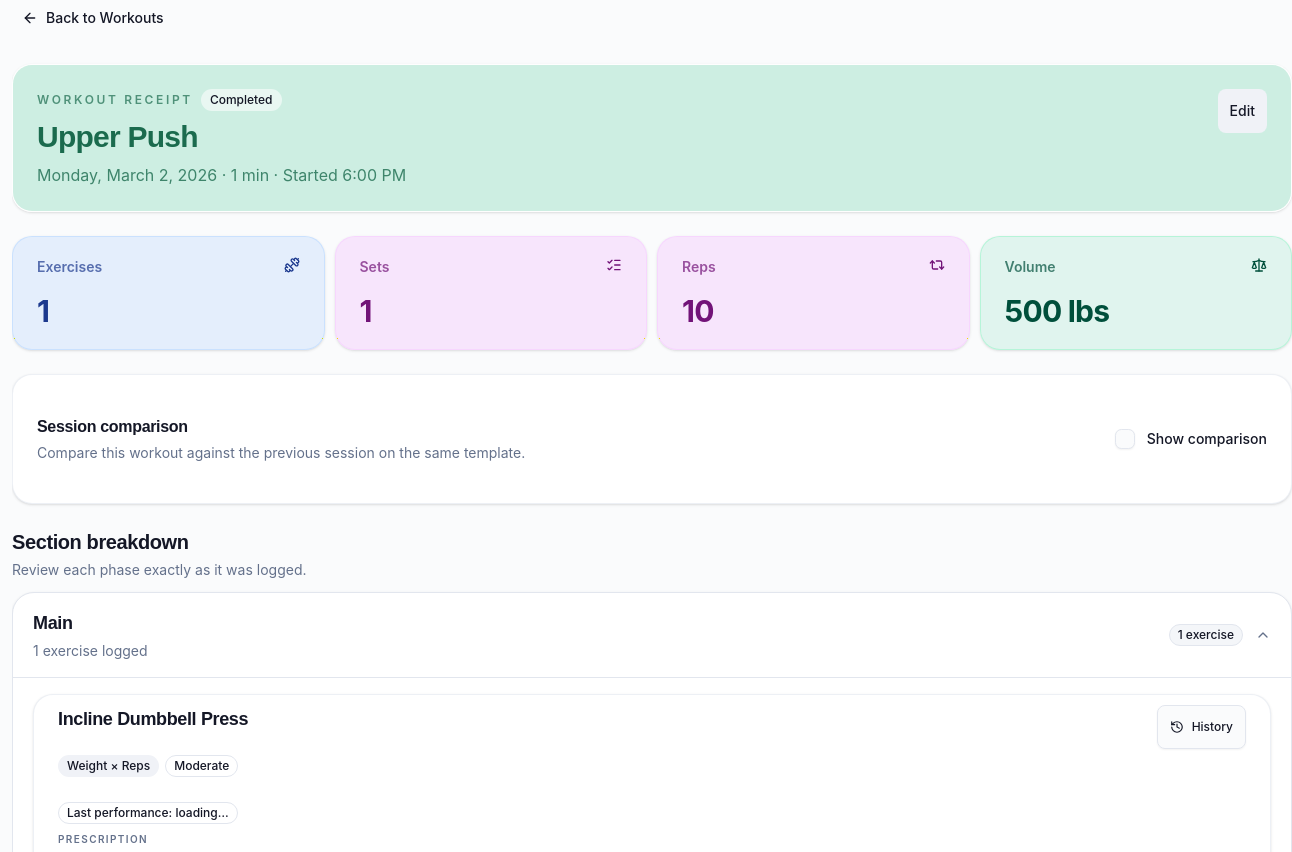
Scenario: SessionDetail › supports inline correction editing and only submits changed values
Expected: the text "Workout receipt" is shown, [37, 92, 193, 108]
Click the button "Edit".
click(1242, 111)  # box [1218, 89, 1267, 133]
(page scrolled)
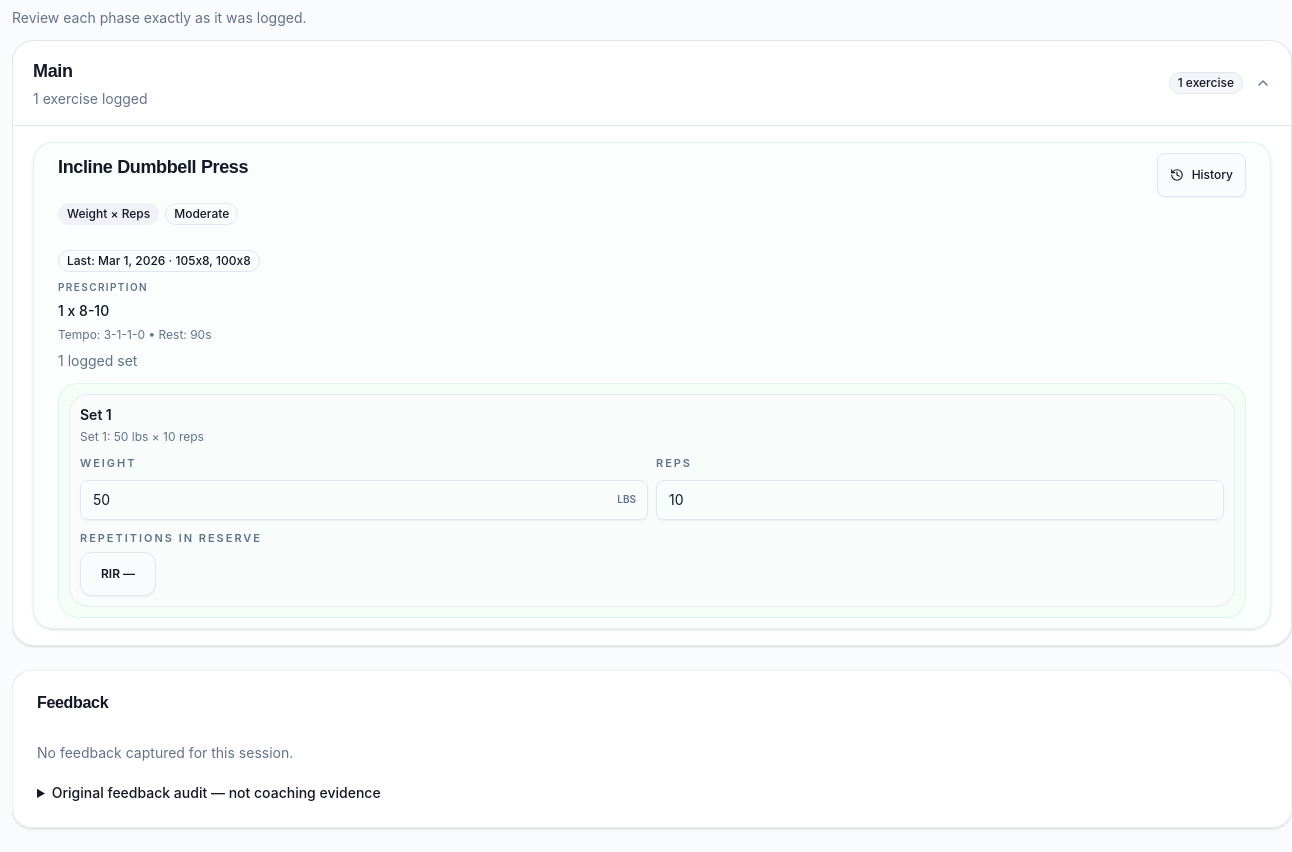
Replace the text in the number field named "Weight for set 1" with "55" at {"x": 364, "y": 500}, box [80, 480, 648, 520]
(page scrolled)
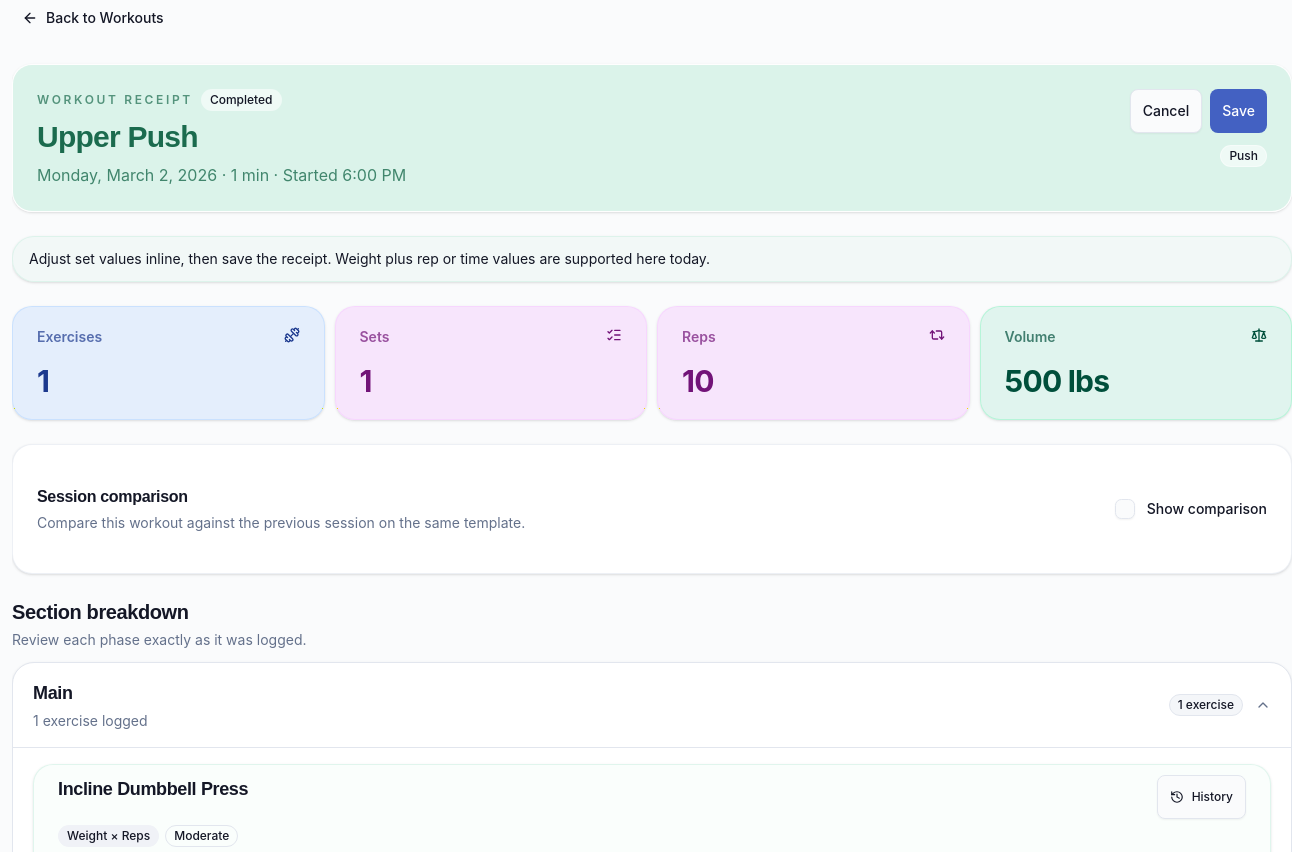
Click the button "Save".
click(1239, 111)  # box [1210, 89, 1267, 133]
(page scrolled)
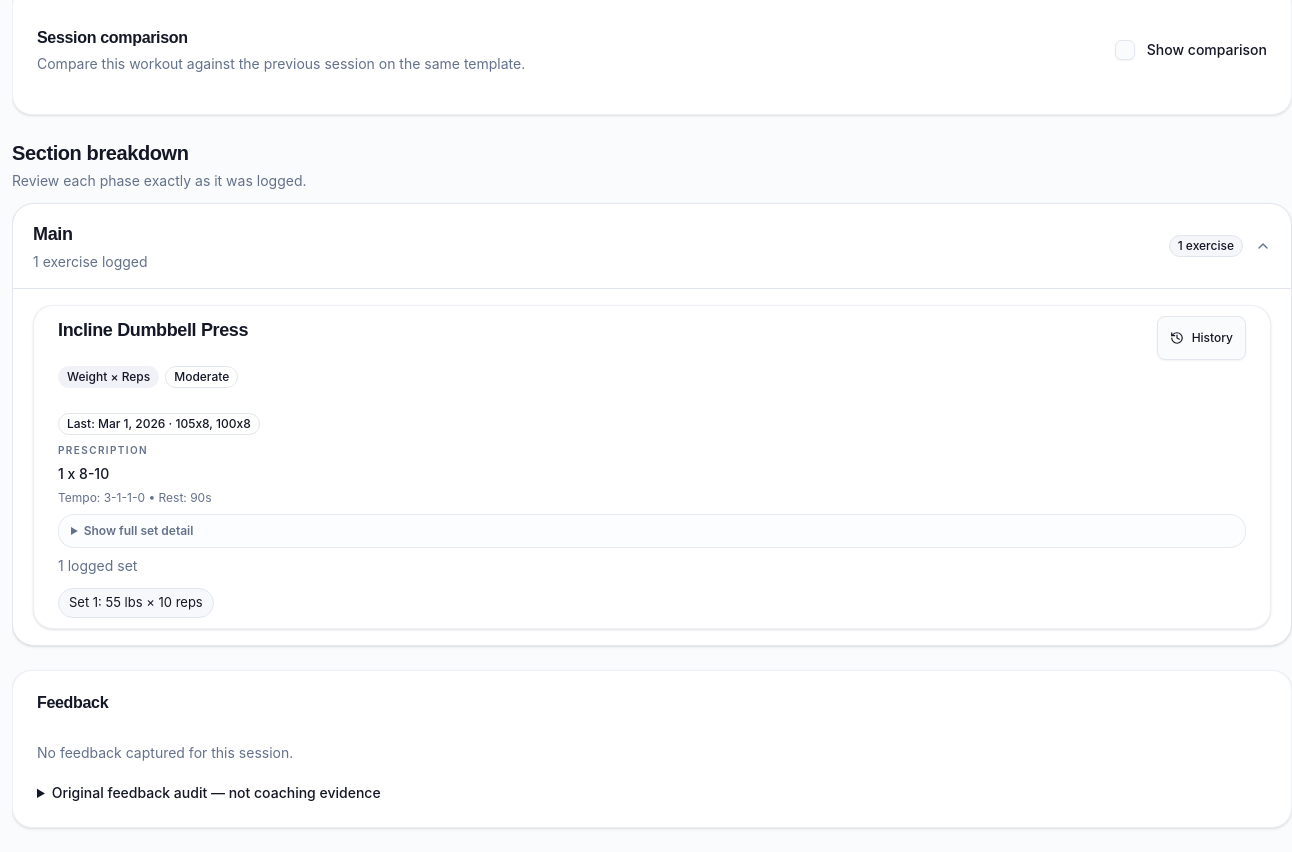
Expected: the text "Set 1: 55 lbs × 10 reps" is shown, [58, 588, 214, 618]
Expected: the button "Save" is gone
